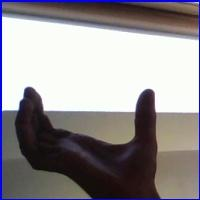space: (6, 58, 176, 193)
